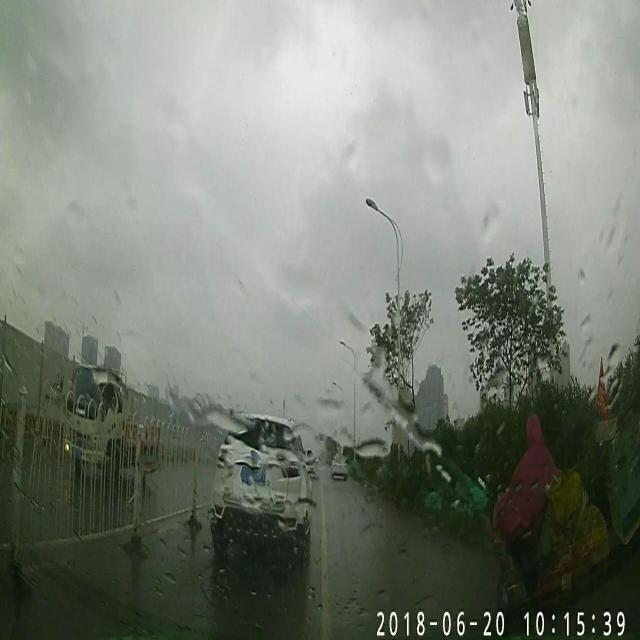car: (208, 410, 312, 563), (304, 448, 318, 480), (332, 454, 349, 479)
